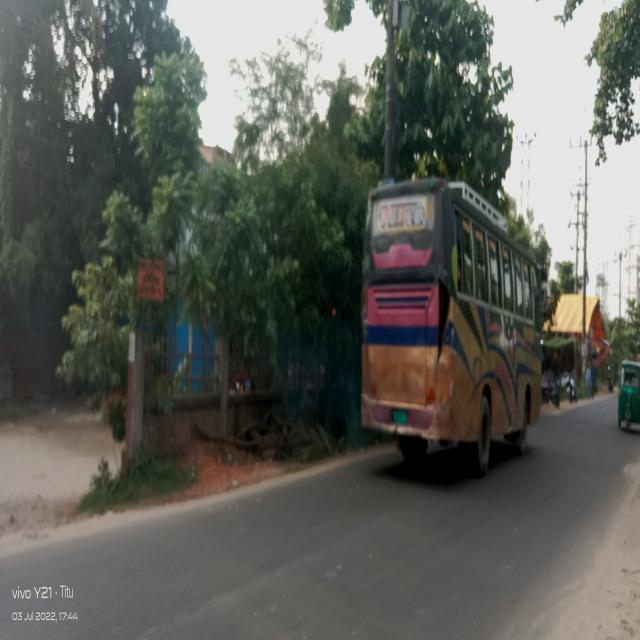bus: (363, 160, 548, 483)
